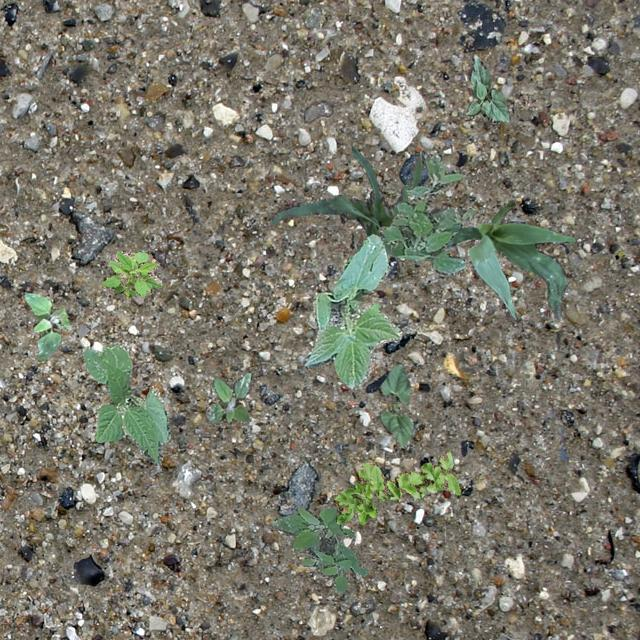crop: (268, 146, 426, 254), (444, 200, 574, 318), (304, 234, 401, 388), (80, 342, 170, 464), (464, 54, 510, 122), (378, 360, 412, 448)
weed: (378, 148, 477, 276), (333, 450, 459, 522), (268, 506, 368, 594), (22, 292, 70, 361), (100, 250, 160, 296), (204, 372, 250, 424)
